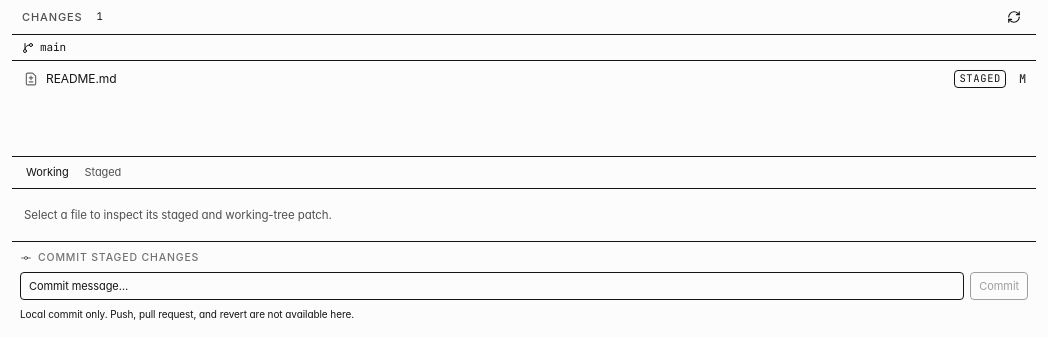
Test: WorkbenchChanges › commits staged changes and reports the local commit id
Type "Document Git flow" into the field labelled "Commit Staged Changes" at [492, 286], box [20, 272, 964, 300]
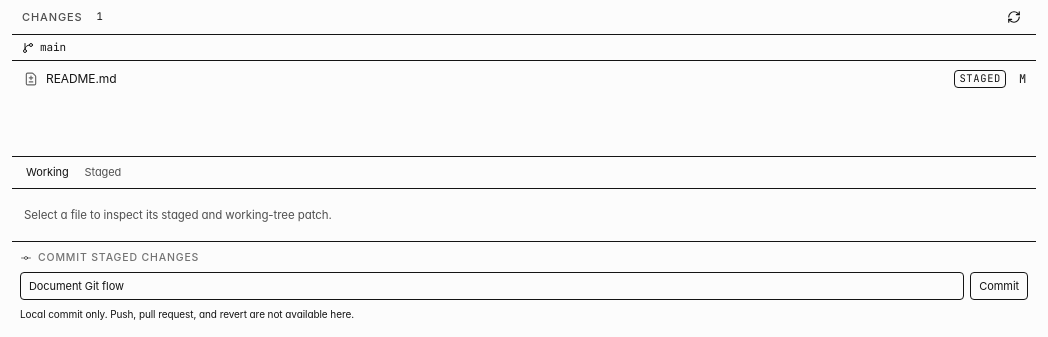
Click the button "Commit" at [999, 286], box [970, 272, 1028, 300]
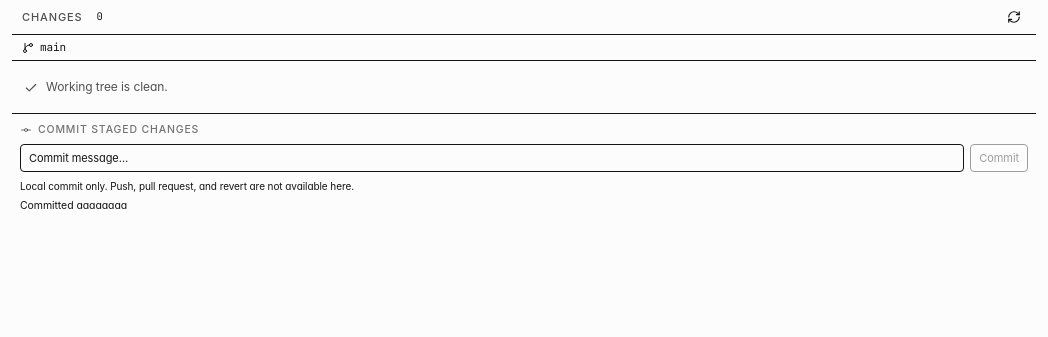
Check: the text "Committed aaaaaaaa" is shown 2 times
Check: the field labelled "Commit Staged Changes" is empty, box [20, 144, 964, 172]
